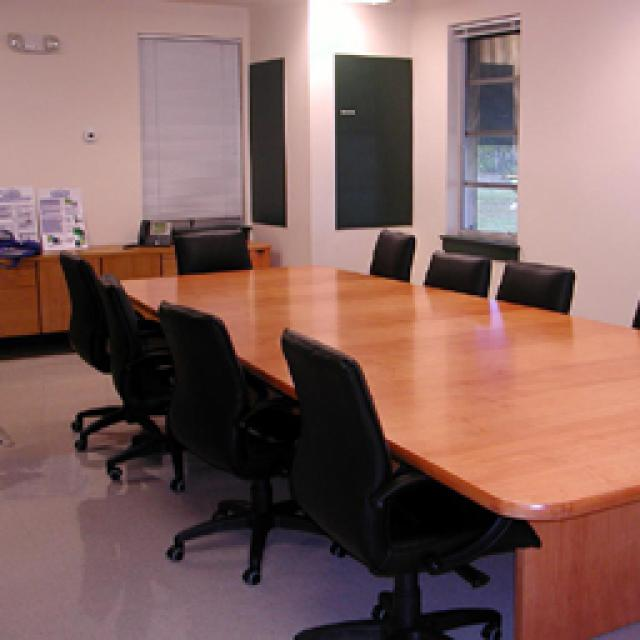2001: (135, 32, 242, 220), (442, 10, 520, 252)
blackboard: (330, 52, 410, 222), (245, 55, 285, 225)
cabinet door: (0, 238, 270, 330)
chair: (490, 258, 570, 308), (168, 225, 252, 270), (418, 248, 488, 295), (362, 225, 415, 275)
chair -occluded-: (272, 325, 542, 635), (152, 298, 318, 585), (92, 275, 185, 488), (55, 250, 110, 380)
conference table: (110, 262, 635, 638)
lamp crop: (5, 28, 58, 50)
phone charger: (120, 218, 170, 242)
poster crop: (38, 188, 85, 245), (0, 185, 32, 238)
